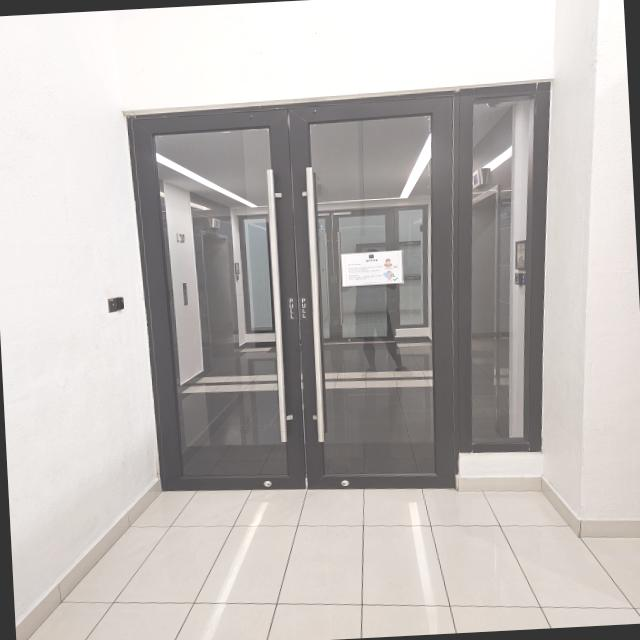door: (123, 88, 464, 510)
footpath: (115, 467, 584, 640)
